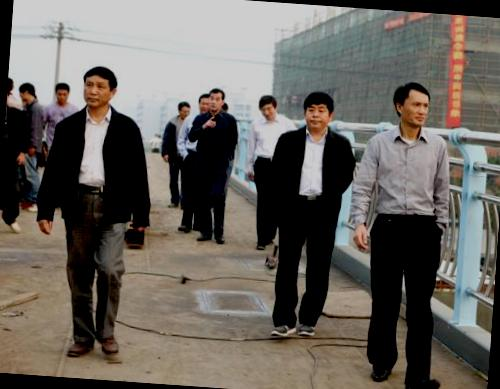no_helmet: (387, 76, 436, 132), (78, 61, 122, 111), (298, 85, 338, 134), (254, 91, 280, 121), (206, 83, 228, 113), (50, 79, 72, 104), (16, 80, 38, 104), (173, 96, 193, 120), (194, 90, 211, 114)
